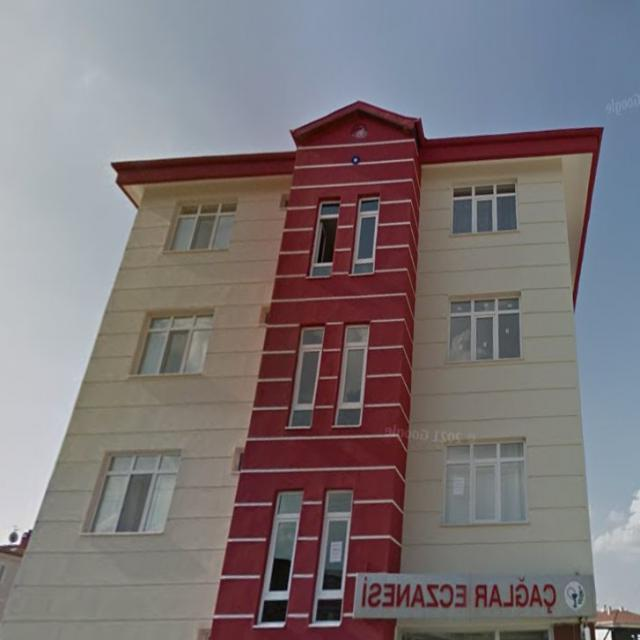Building: (0, 100, 604, 640)
